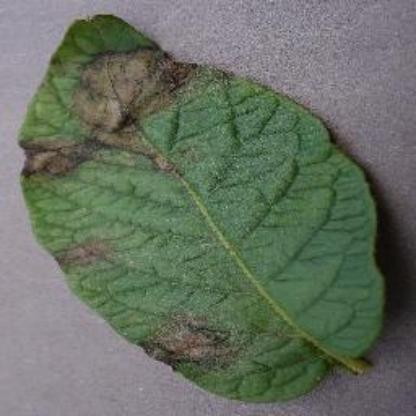Late-Blight: (18, 12, 392, 404)
